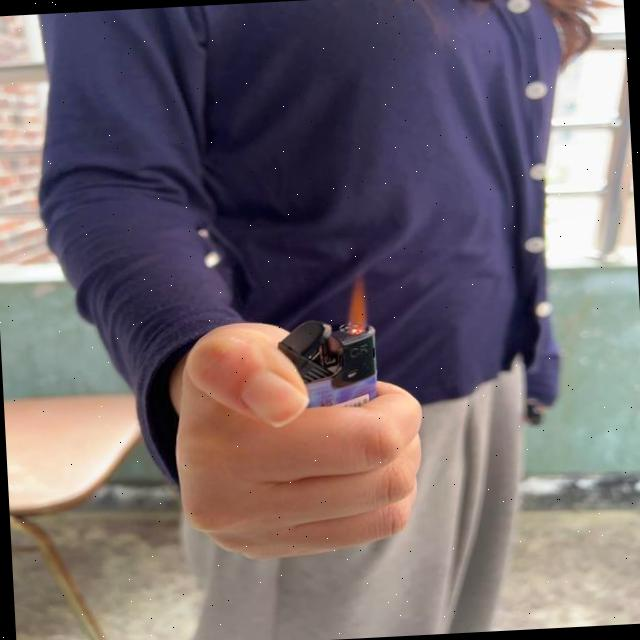fire: (343, 278, 378, 335)
